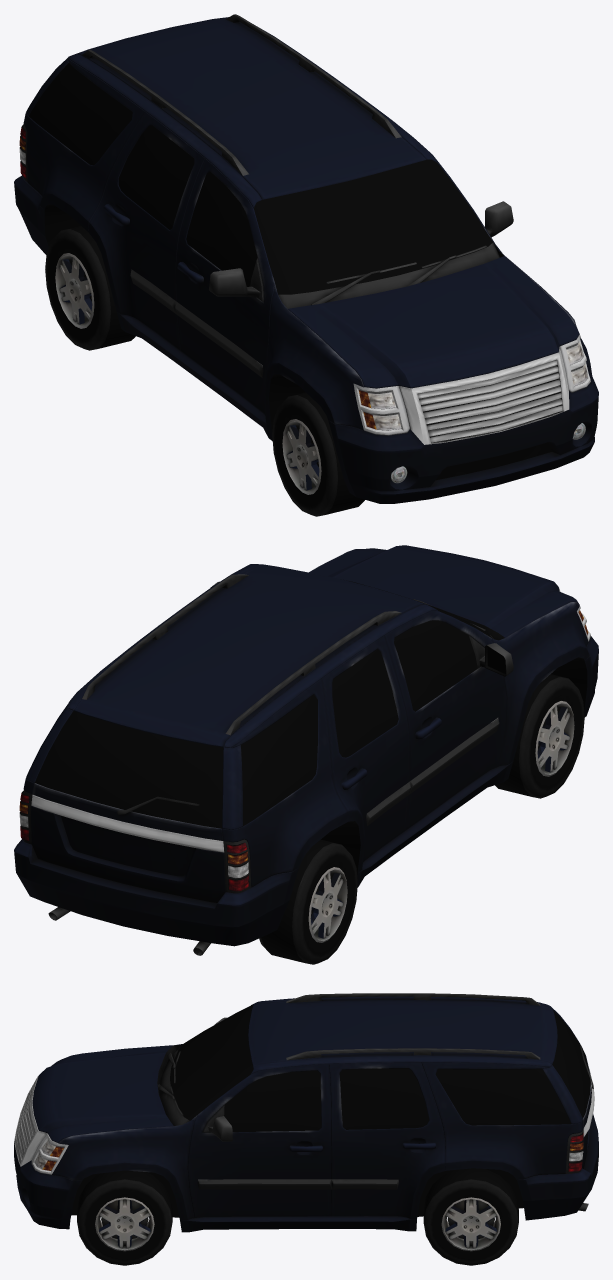
Rendered from suv_navy.glb.
The picture shows the model from 3 angles, top to bottom: view 1: azimuth 30°, elevation 25°; view 2: azimuth 150°, elevation 25°; view 3: azimuth 270°, elevation 25°; orthographic projection. The views are drawn at different scales.
Visible parts, largest first — view 1: suv body, Rear Right Wheel, Front Right Wheel; view 2: suv body, Rear Right Wheel, Front Right Wheel; view 3: suv body, Rear Left Wheel, Front Left Wheel.
Boxes of the visible parts, <box> form: suv body: <box>14,14,598,503</box>; Rear Right Wheel: <box>45,225,135,350</box>; Front Right Wheel: <box>272,392,364,516</box>; suv body: <box>14,545,598,955</box>; Rear Right Wheel: <box>259,839,357,964</box>; Front Right Wheel: <box>495,674,584,798</box>; suv body: <box>14,993,598,1232</box>; Rear Left Wheel: <box>423,1168,518,1265</box>; Front Left Wheel: <box>77,1170,172,1265</box>.
Size of the model in its own units: 2.07 by 1.73 by 4.61.
Materials: 1 (1 with a texture image).
